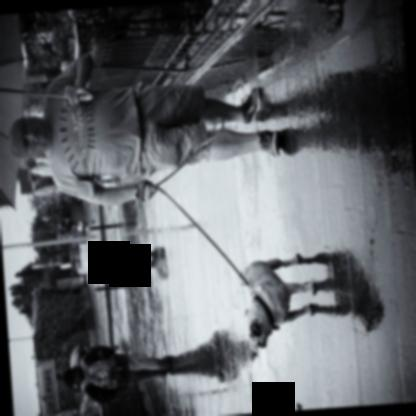backpack: (80, 354, 120, 392)
